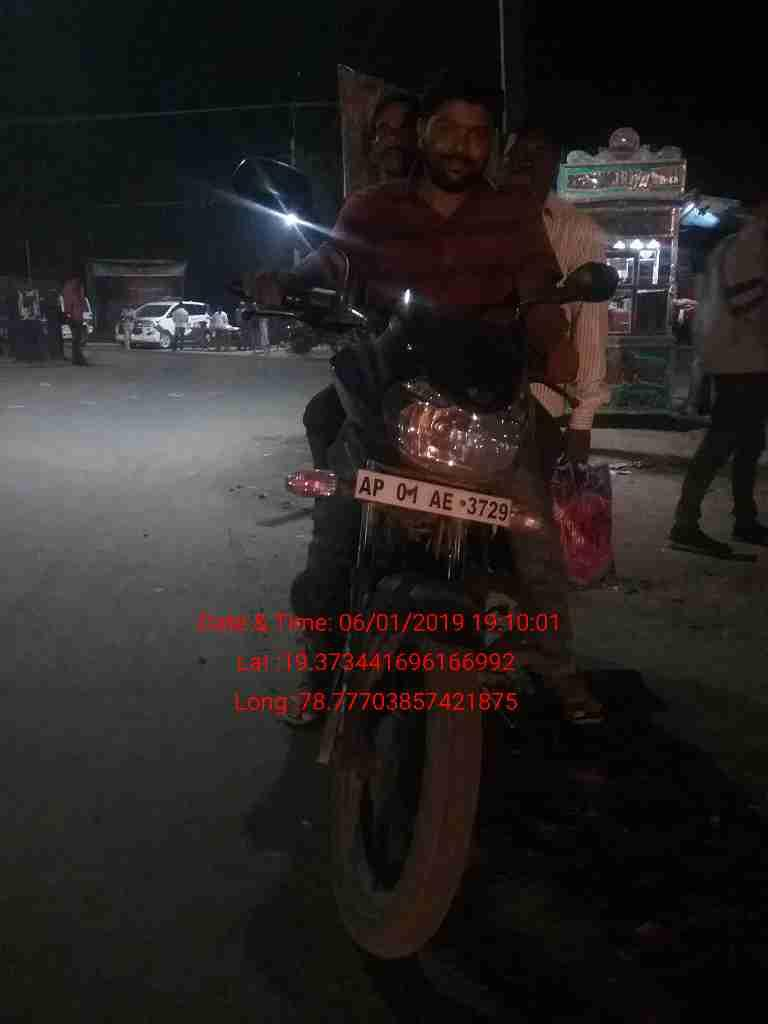plate: (349, 467, 515, 530)
